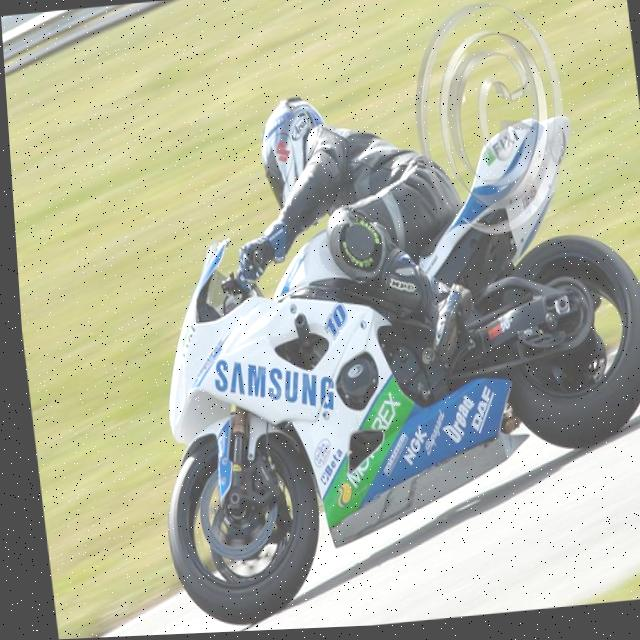motorcycle: (118, 103, 640, 635)
